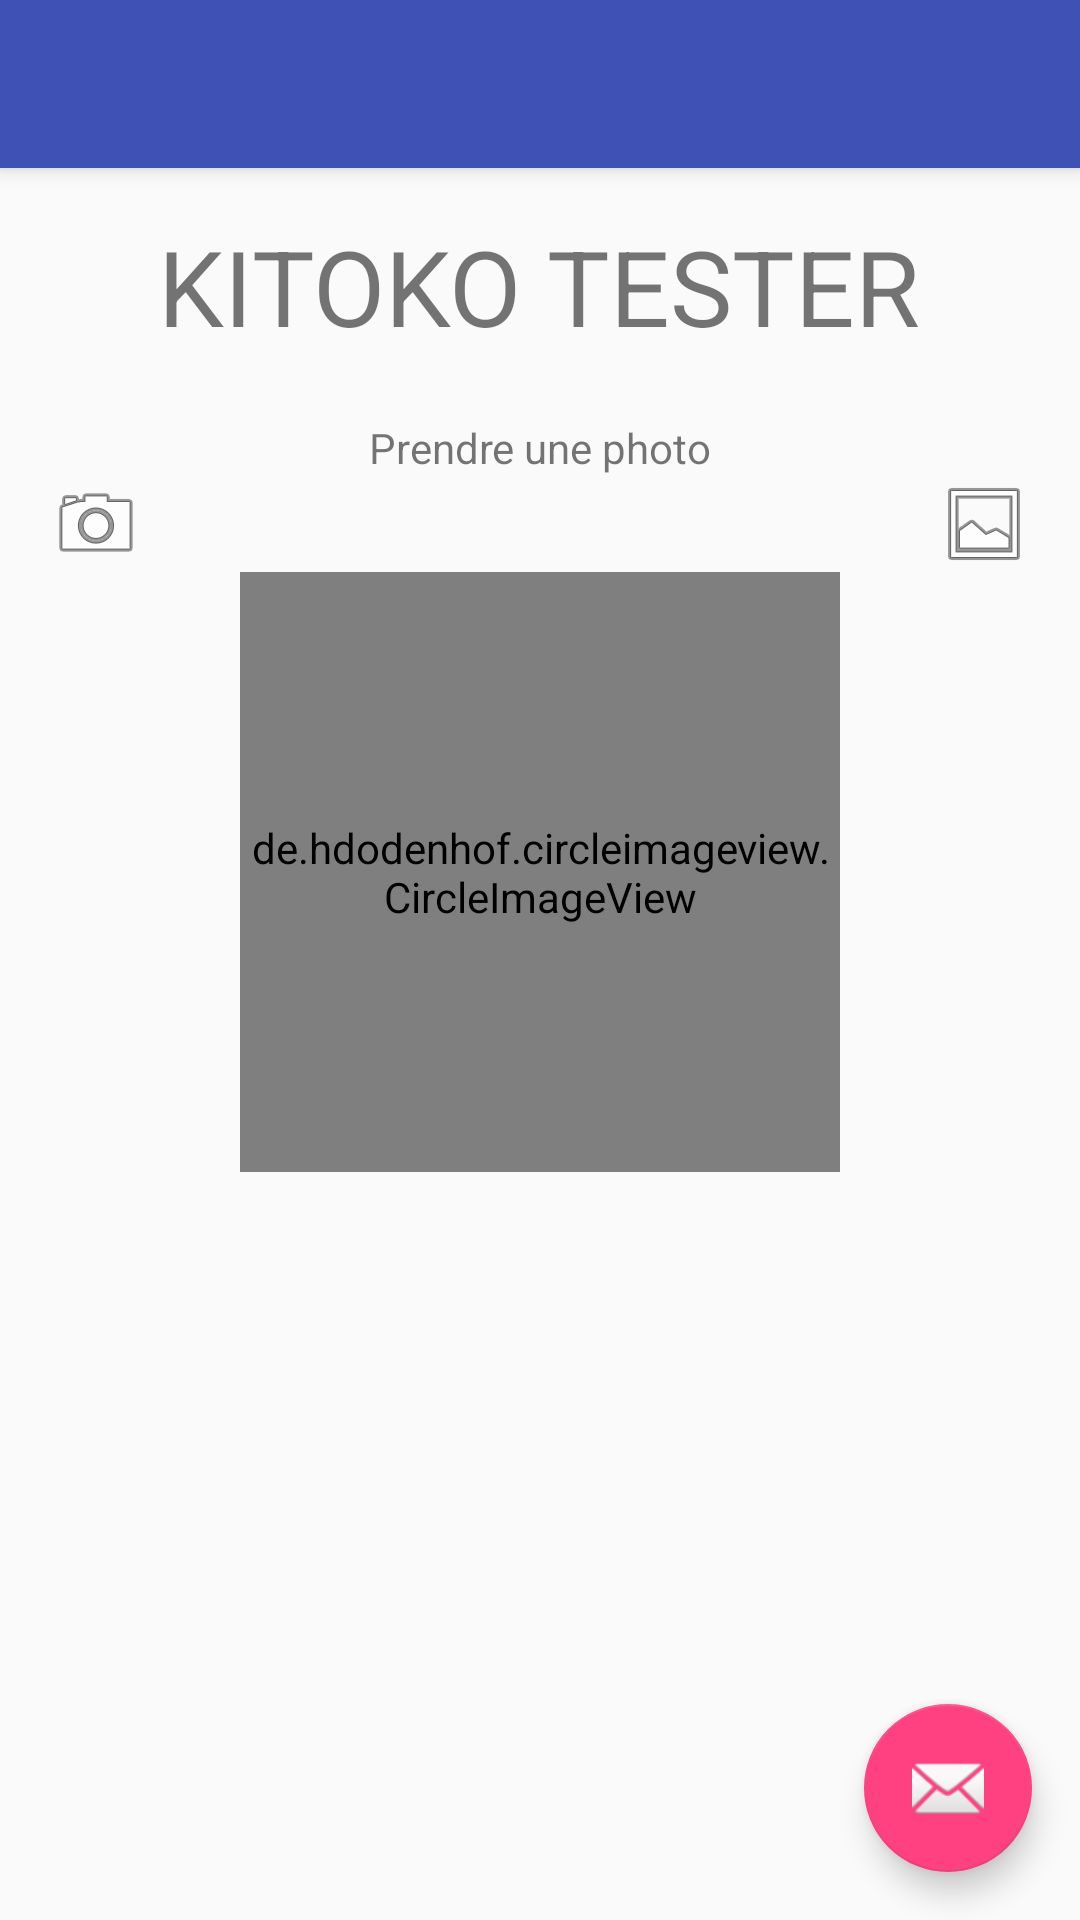

Icons on this 1080px×1920px Android screen, each with the point to tap as (x,y):
camera: (96,522)
email: (948,1788)
gallery: (984,524)
